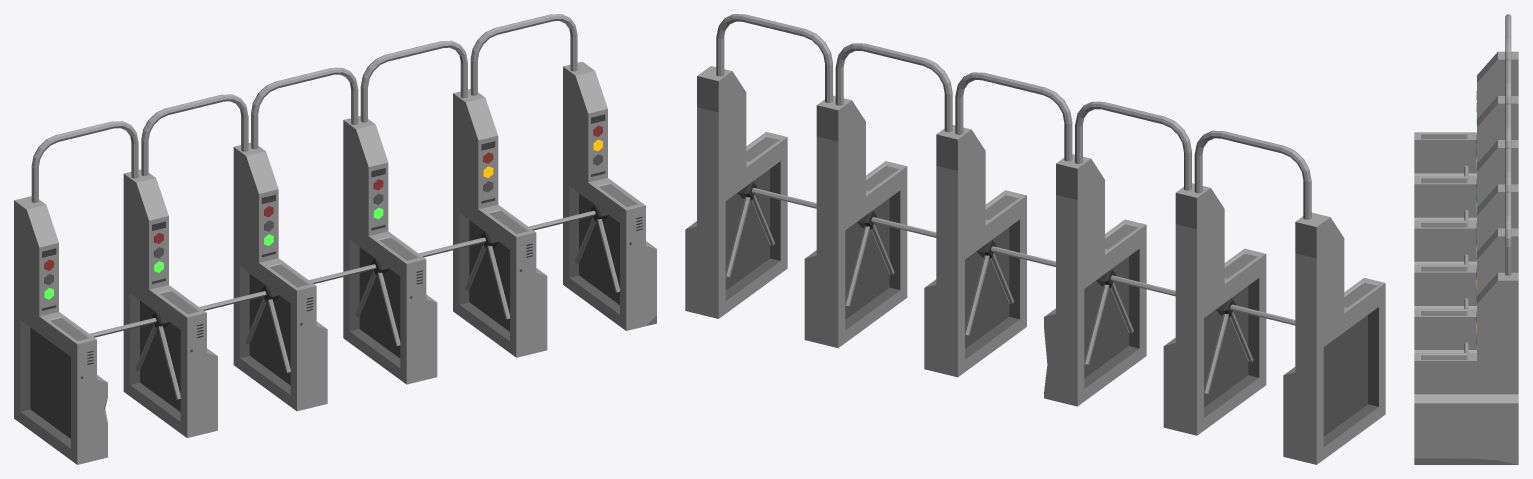
File: SM_Train_Subway_Station_Props_TicketBarrier_02.fbx
3 views of the same model, side by side, from view 1: azimuth 30°, elevation 25°; view 2: azimuth 150°, elevation 25°; view 3: azimuth 270°, elevation 25° (orthographic). The views are drawn at different scales.
Parts seen in each view (by area): view 1: SM_Train_Subway_Station_Props_TicketBarrier_02; view 2: SM_Train_Subway_Station_Props_TicketBarrier_02; view 3: SM_Train_Subway_Station_Props_TicketBarrier_02.
Part boxes in pixels (x1=…): SM_Train_Subway_Station_Props_TicketBarrier_02: x1=14, y1=14, x2=656, y2=464; SM_Train_Subway_Station_Props_TicketBarrier_02: x1=685, y1=14, x2=1385, y2=464; SM_Train_Subway_Station_Props_TicketBarrier_02: x1=1414, y1=14, x2=1518, y2=464.
Bounding box in the file's own units: 528 × 243 × 100.
